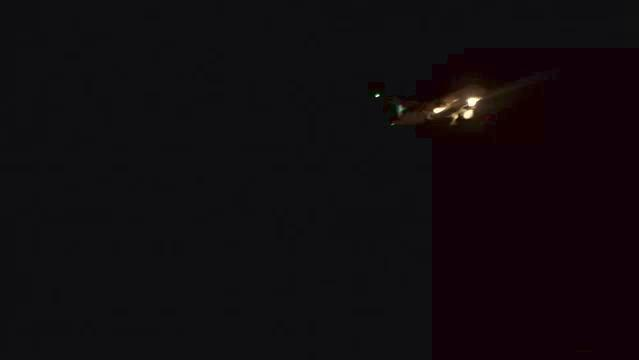Plane: (314, 73, 539, 146)
